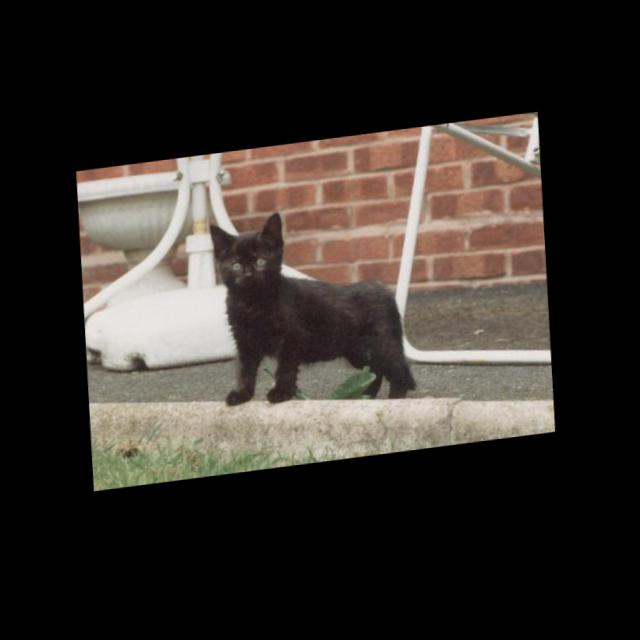animals: (211, 214, 286, 289)
